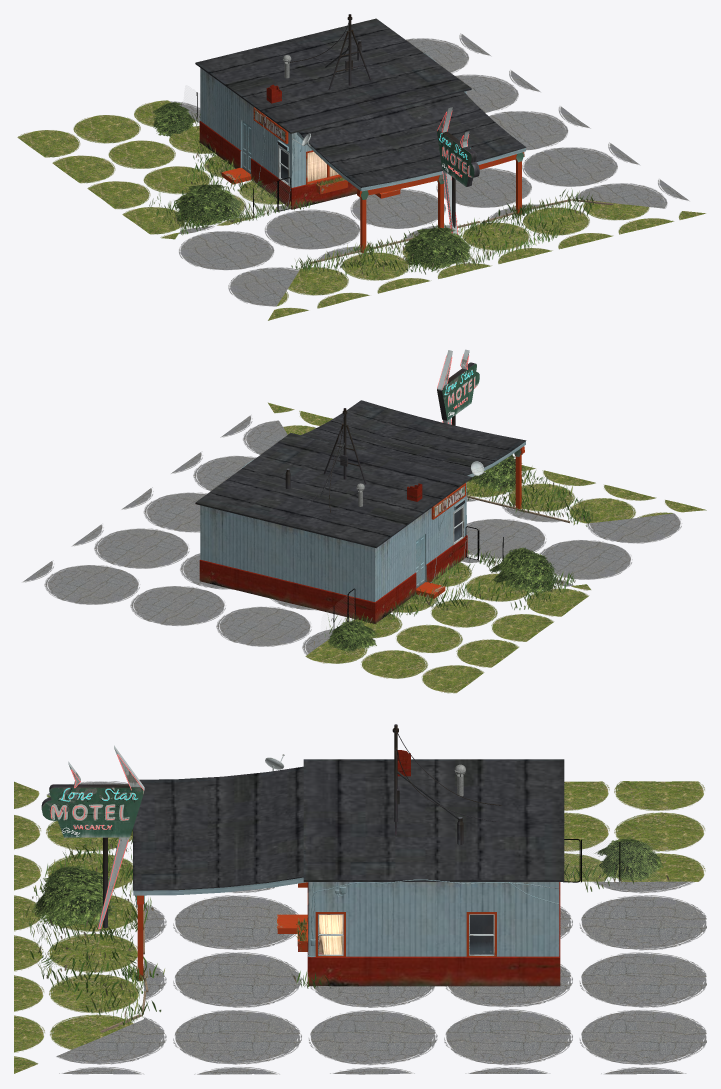
Rendered from motel.glb.
The picture shows the model from 3 angles, top to bottom: view 1: azimuth 30°, elevation 25°; view 2: azimuth 150°, elevation 25°; view 3: azimuth 270°, elevation 25°; orthographic projection. The views are drawn at different scales.
Visible parts, largest first — view 1: house, ground, grass_plane, grass, bush, stand, wood; view 2: house, ground, grass_plane, grass, bush, stand; view 3: house, ground, grass_plane, grass, stand, bush, red neon.
Part boxes in pixels (x1=…): house: x1=195, y1=14, x2=526, y2=252; ground: x1=170, y1=33, x2=689, y2=306; grass_plane: x1=17, y1=100, x2=705, y2=320; grass: x1=147, y1=102, x2=596, y2=276; bush: x1=151, y1=102, x2=471, y2=270; stand: x1=437, y1=107, x2=479, y2=234; wood: x1=309, y1=199, x2=614, y2=263; house: x1=195, y1=400, x2=526, y2=623; ground: x1=22, y1=415, x2=681, y2=655; grass_plane: x1=268, y1=402, x2=706, y2=693; grass: x1=200, y1=466, x2=593, y2=645; bush: x1=328, y1=454, x2=557, y2=651; stand: x1=437, y1=349, x2=479, y2=425; house: x1=133, y1=724, x2=564, y2=986; ground: x1=47, y1=781, x2=706, y2=1074; grass_plane: x1=14, y1=781, x2=705, y2=1073; grass: x1=22, y1=829, x2=669, y2=1026; stand: x1=41, y1=745, x2=144, y2=928; bush: x1=32, y1=838, x2=663, y2=928; red neon: x1=50, y1=754, x2=143, y2=928.
Size of the model in its own units: 20000 by 6792 by 20000.
11 materials, 7 textured.
